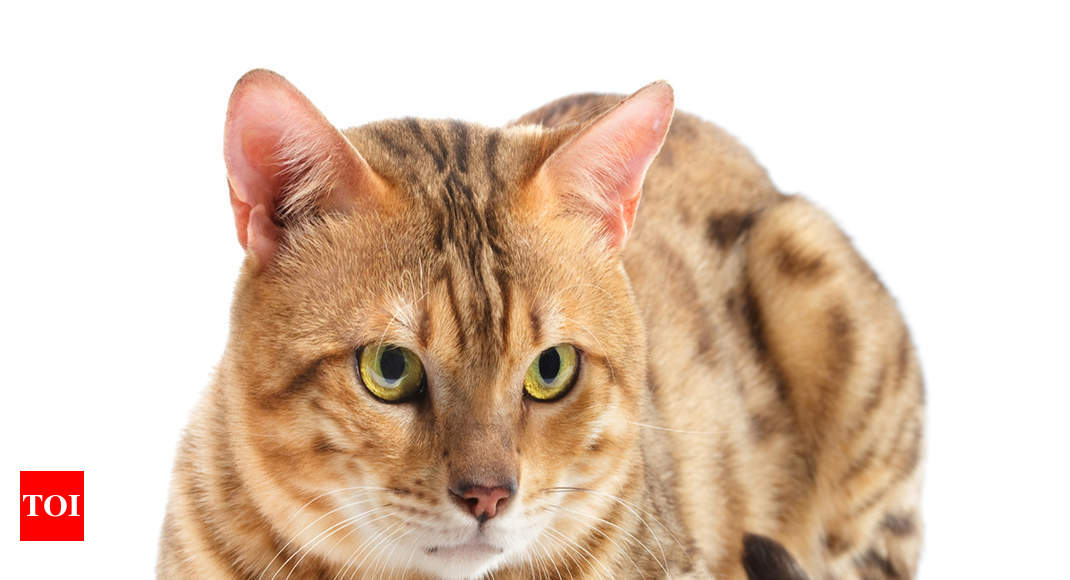cat: (189, 20, 681, 554)
